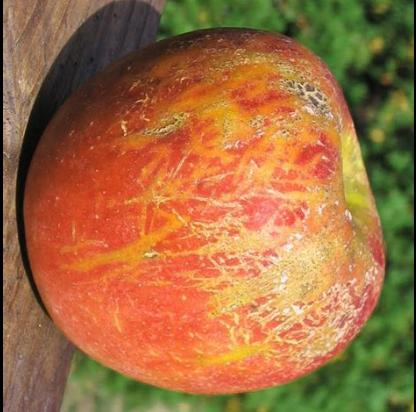defect: (89, 30, 388, 388)
